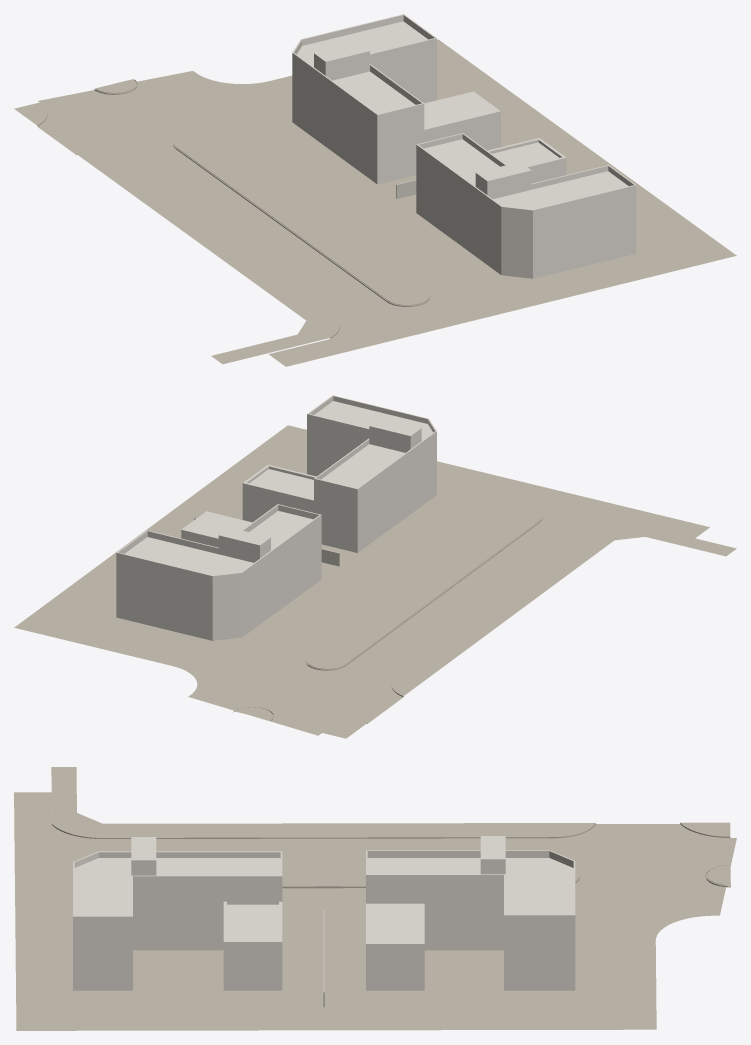
3 renders of one model, top to bottom at view 1: azimuth 30°, elevation 25°; view 2: azimuth 150°, elevation 25°; view 3: azimuth 270°, elevation 25°, orthographic. The views are drawn at different scales.
Visible parts, largest first — view 1: entorno_suelo, A0_edif, A1_edif, A1_suelo, A0_suelo; view 2: entorno_suelo, A1_edif, A0_edif, A1_suelo, A0_suelo; view 3: entorno_suelo, A1_edif, A0_edif, A0_suelo, A1_suelo.
Boxes of the visible parts, bbox=[...] form: entorno_suelo: bbox=[14, 39, 736, 366]; A0_edif: bbox=[416, 133, 636, 278]; A1_edif: bbox=[292, 14, 500, 184]; A1_suelo: bbox=[264, 59, 718, 287]; A0_suelo: bbox=[377, 76, 667, 253]; entorno_suelo: bbox=[14, 425, 736, 738]; A1_edif: bbox=[116, 504, 321, 640]; A0_edif: bbox=[242, 395, 436, 552]; A1_suelo: bbox=[39, 437, 454, 652]; A0_suelo: bbox=[87, 452, 357, 617]; entorno_suelo: bbox=[14, 767, 736, 1030]; A1_edif: bbox=[366, 836, 575, 990]; A0_edif: bbox=[73, 837, 282, 990]; A0_suelo: bbox=[73, 925, 575, 1007]; A1_suelo: bbox=[53, 916, 597, 1030].
Bounding box in the file's own units: 74.25 × 12.05 × 86.34.
